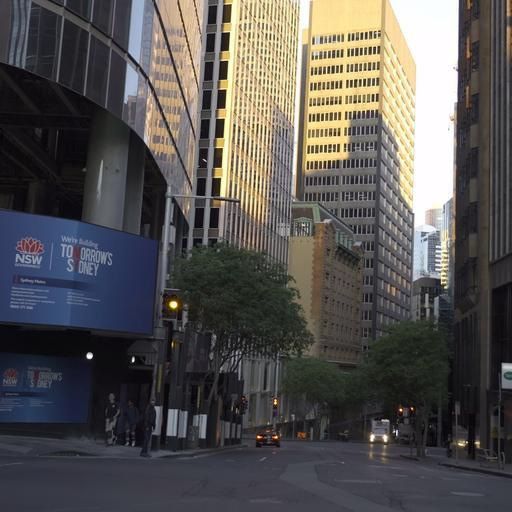Street light: (155, 192, 240, 450), (158, 291, 183, 448), (162, 290, 182, 321), (167, 298, 178, 311)
